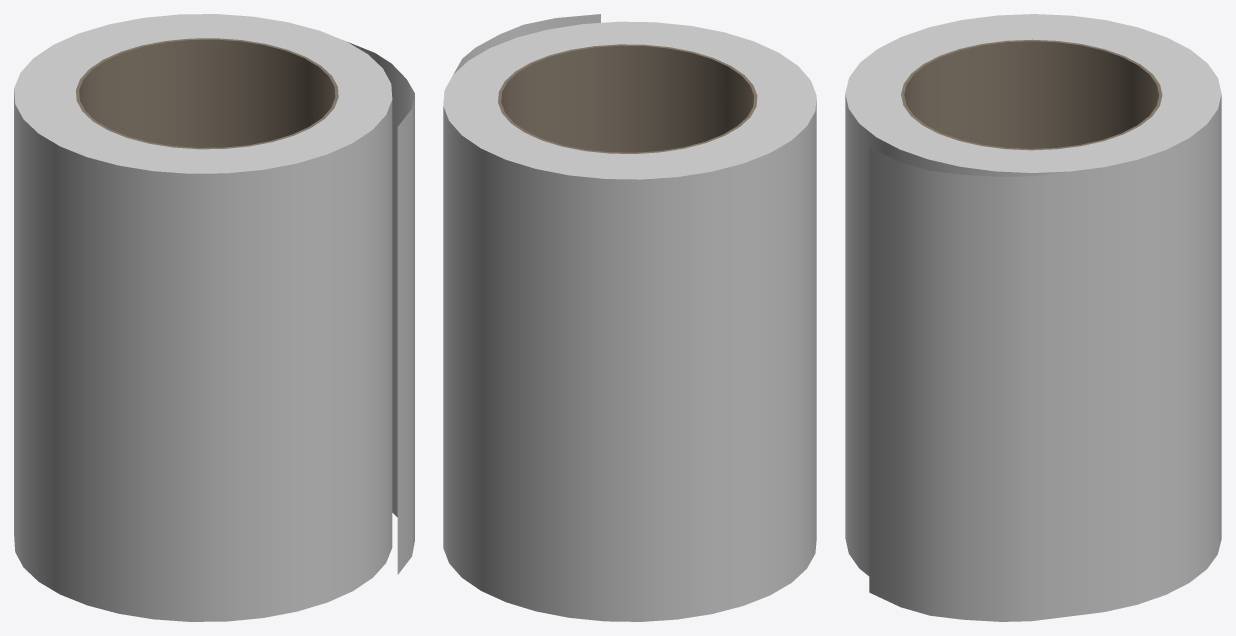
File: paper-roll.glb
3 renders of one model, left to right at view 1: azimuth 30°, elevation 25°; view 2: azimuth 150°, elevation 25°; view 3: azimuth 270°, elevation 25°, orthographic.
Parts seen in each view (by area): view 1: Toilet paper roll; view 2: Toilet paper roll; view 3: Toilet paper roll.
Boxes of the visible parts, x1,y1,x2,y2 form: Toilet paper roll: [14, 14, 414, 621]; Toilet paper roll: [443, 14, 816, 621]; Toilet paper roll: [845, 14, 1221, 621].
Size of the model in its own units: 0.1415 by 0.18 by 0.138.
